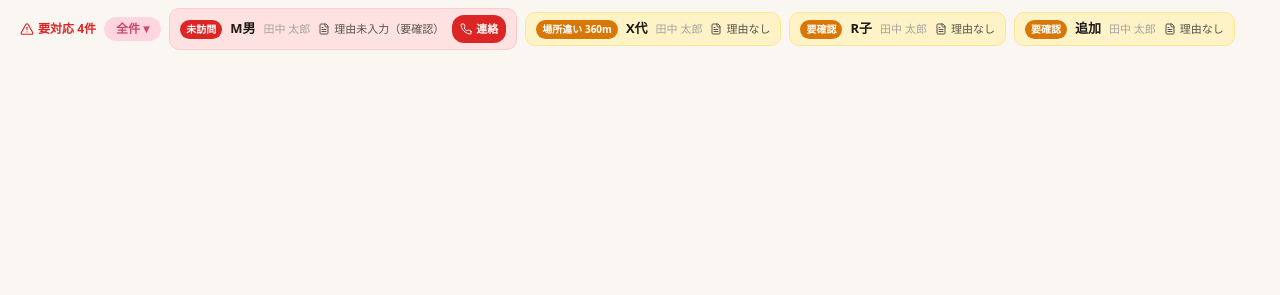
Test case: MonitorAlertTray › 4 件以上で「全件」ボタンが出て、クリックでドロップダウンが開く
This screenshot has width=1280, height=295.
Click the button with test id "monitor-alert-more" at (133, 29), box [104,17,161,41]
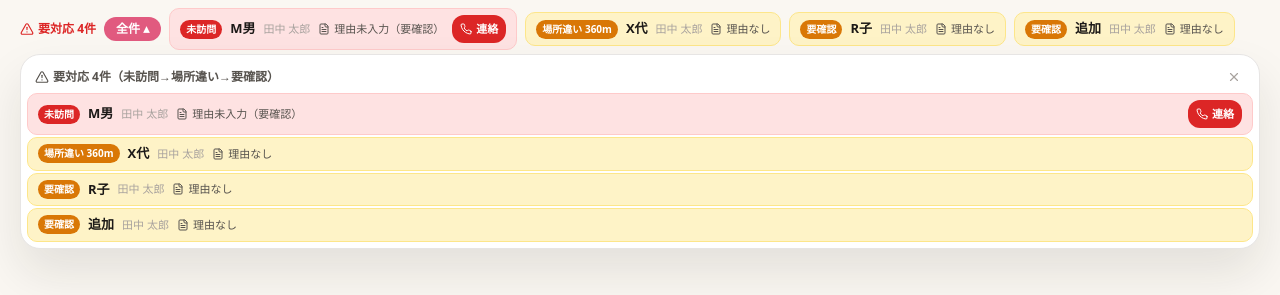
expect the element with test id "monitor-alert-popover" is shown: met
